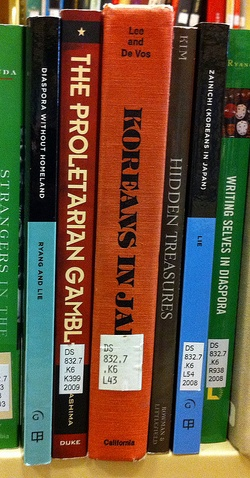call_number: (100, 336, 142, 392), (59, 343, 85, 395), (179, 343, 204, 391), (207, 338, 229, 388)
